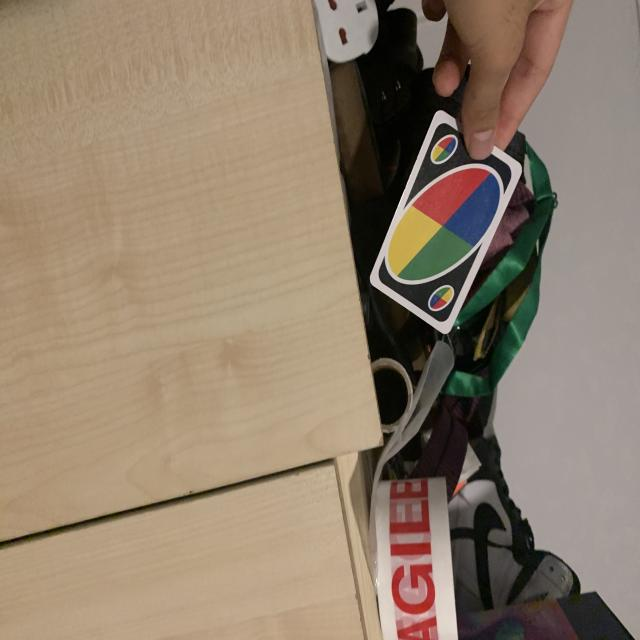lcolor-40: (427, 130, 460, 168)
